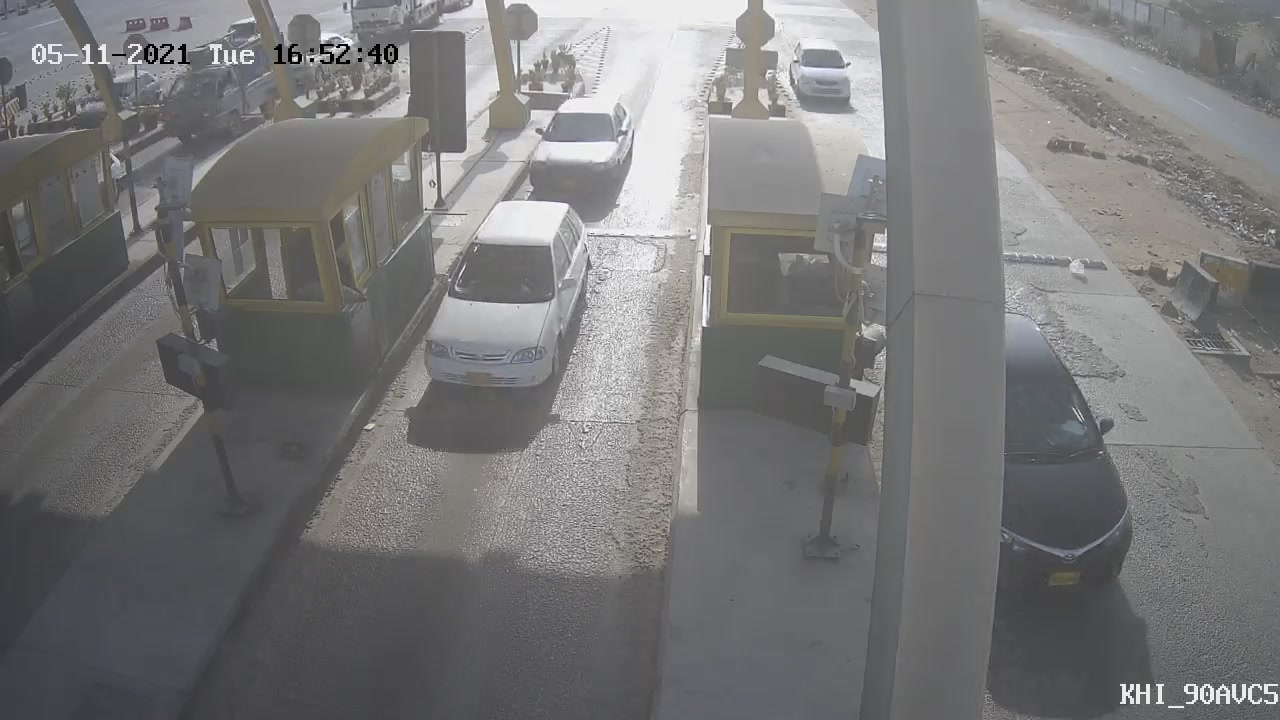F1: (403, 181, 609, 413), (513, 70, 648, 217)
